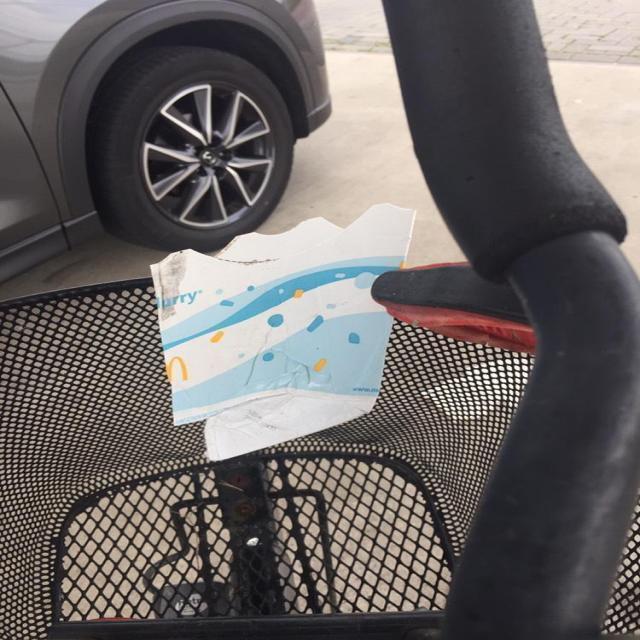Paper: (148, 201, 418, 464)
